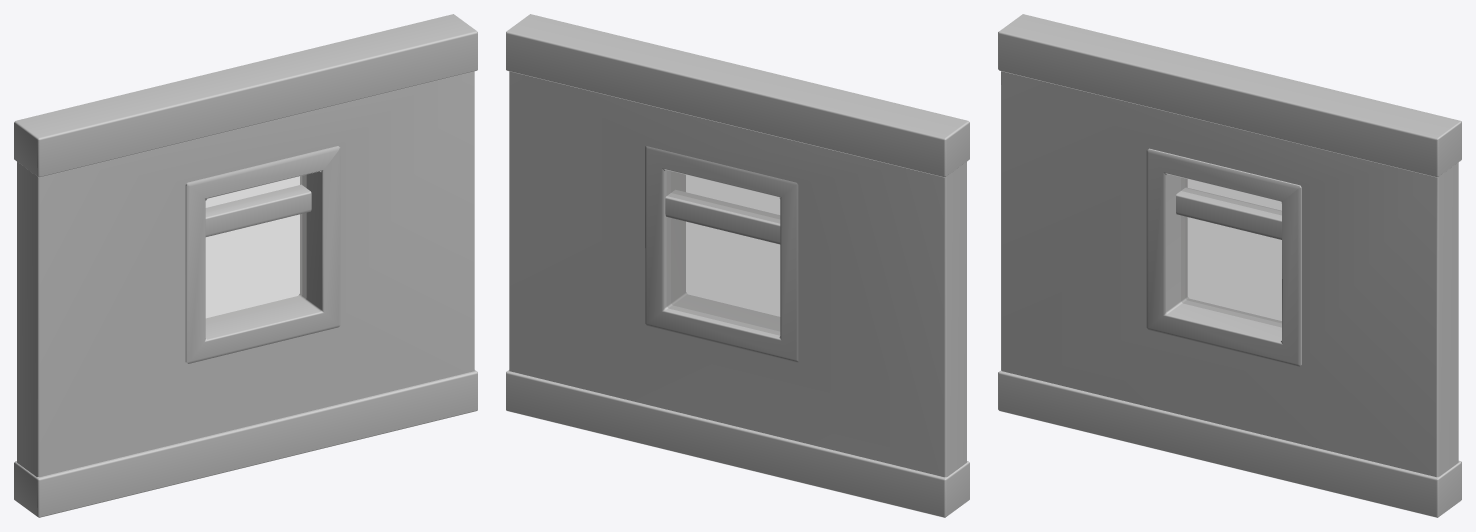
File: Wall_68.fbx
3 renders of one model, left to right at view 1: azimuth 30°, elevation 25°; view 2: azimuth 150°, elevation 25°; view 3: azimuth 330°, elevation 25°, orthographic.
Parts seen in each view (by area): view 1: Wall_68; view 2: Wall_68; view 3: Wall_68.
Part boxes in pixels (left/top/right/bottom): Wall_68: left=14, top=14, right=477, bottom=517; Wall_68: left=506, top=14, right=969, bottom=517; Wall_68: left=998, top=14, right=1461, bottom=517.
Size of the model in its own units: 463 by 382 by 46.57.
